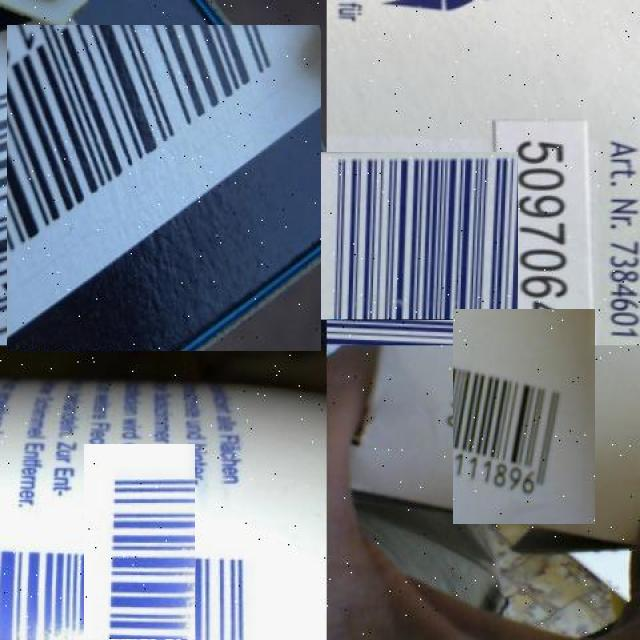Barcode: (3, 28, 324, 348), (314, 140, 507, 333), (435, 327, 614, 506), (42, 486, 238, 640)
